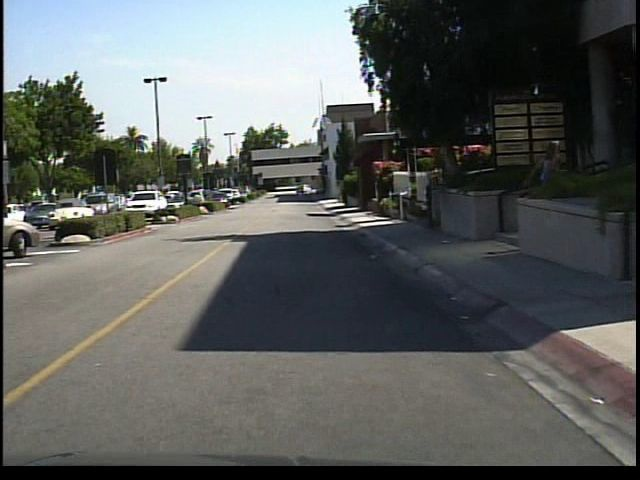person: (532, 133, 571, 241)
